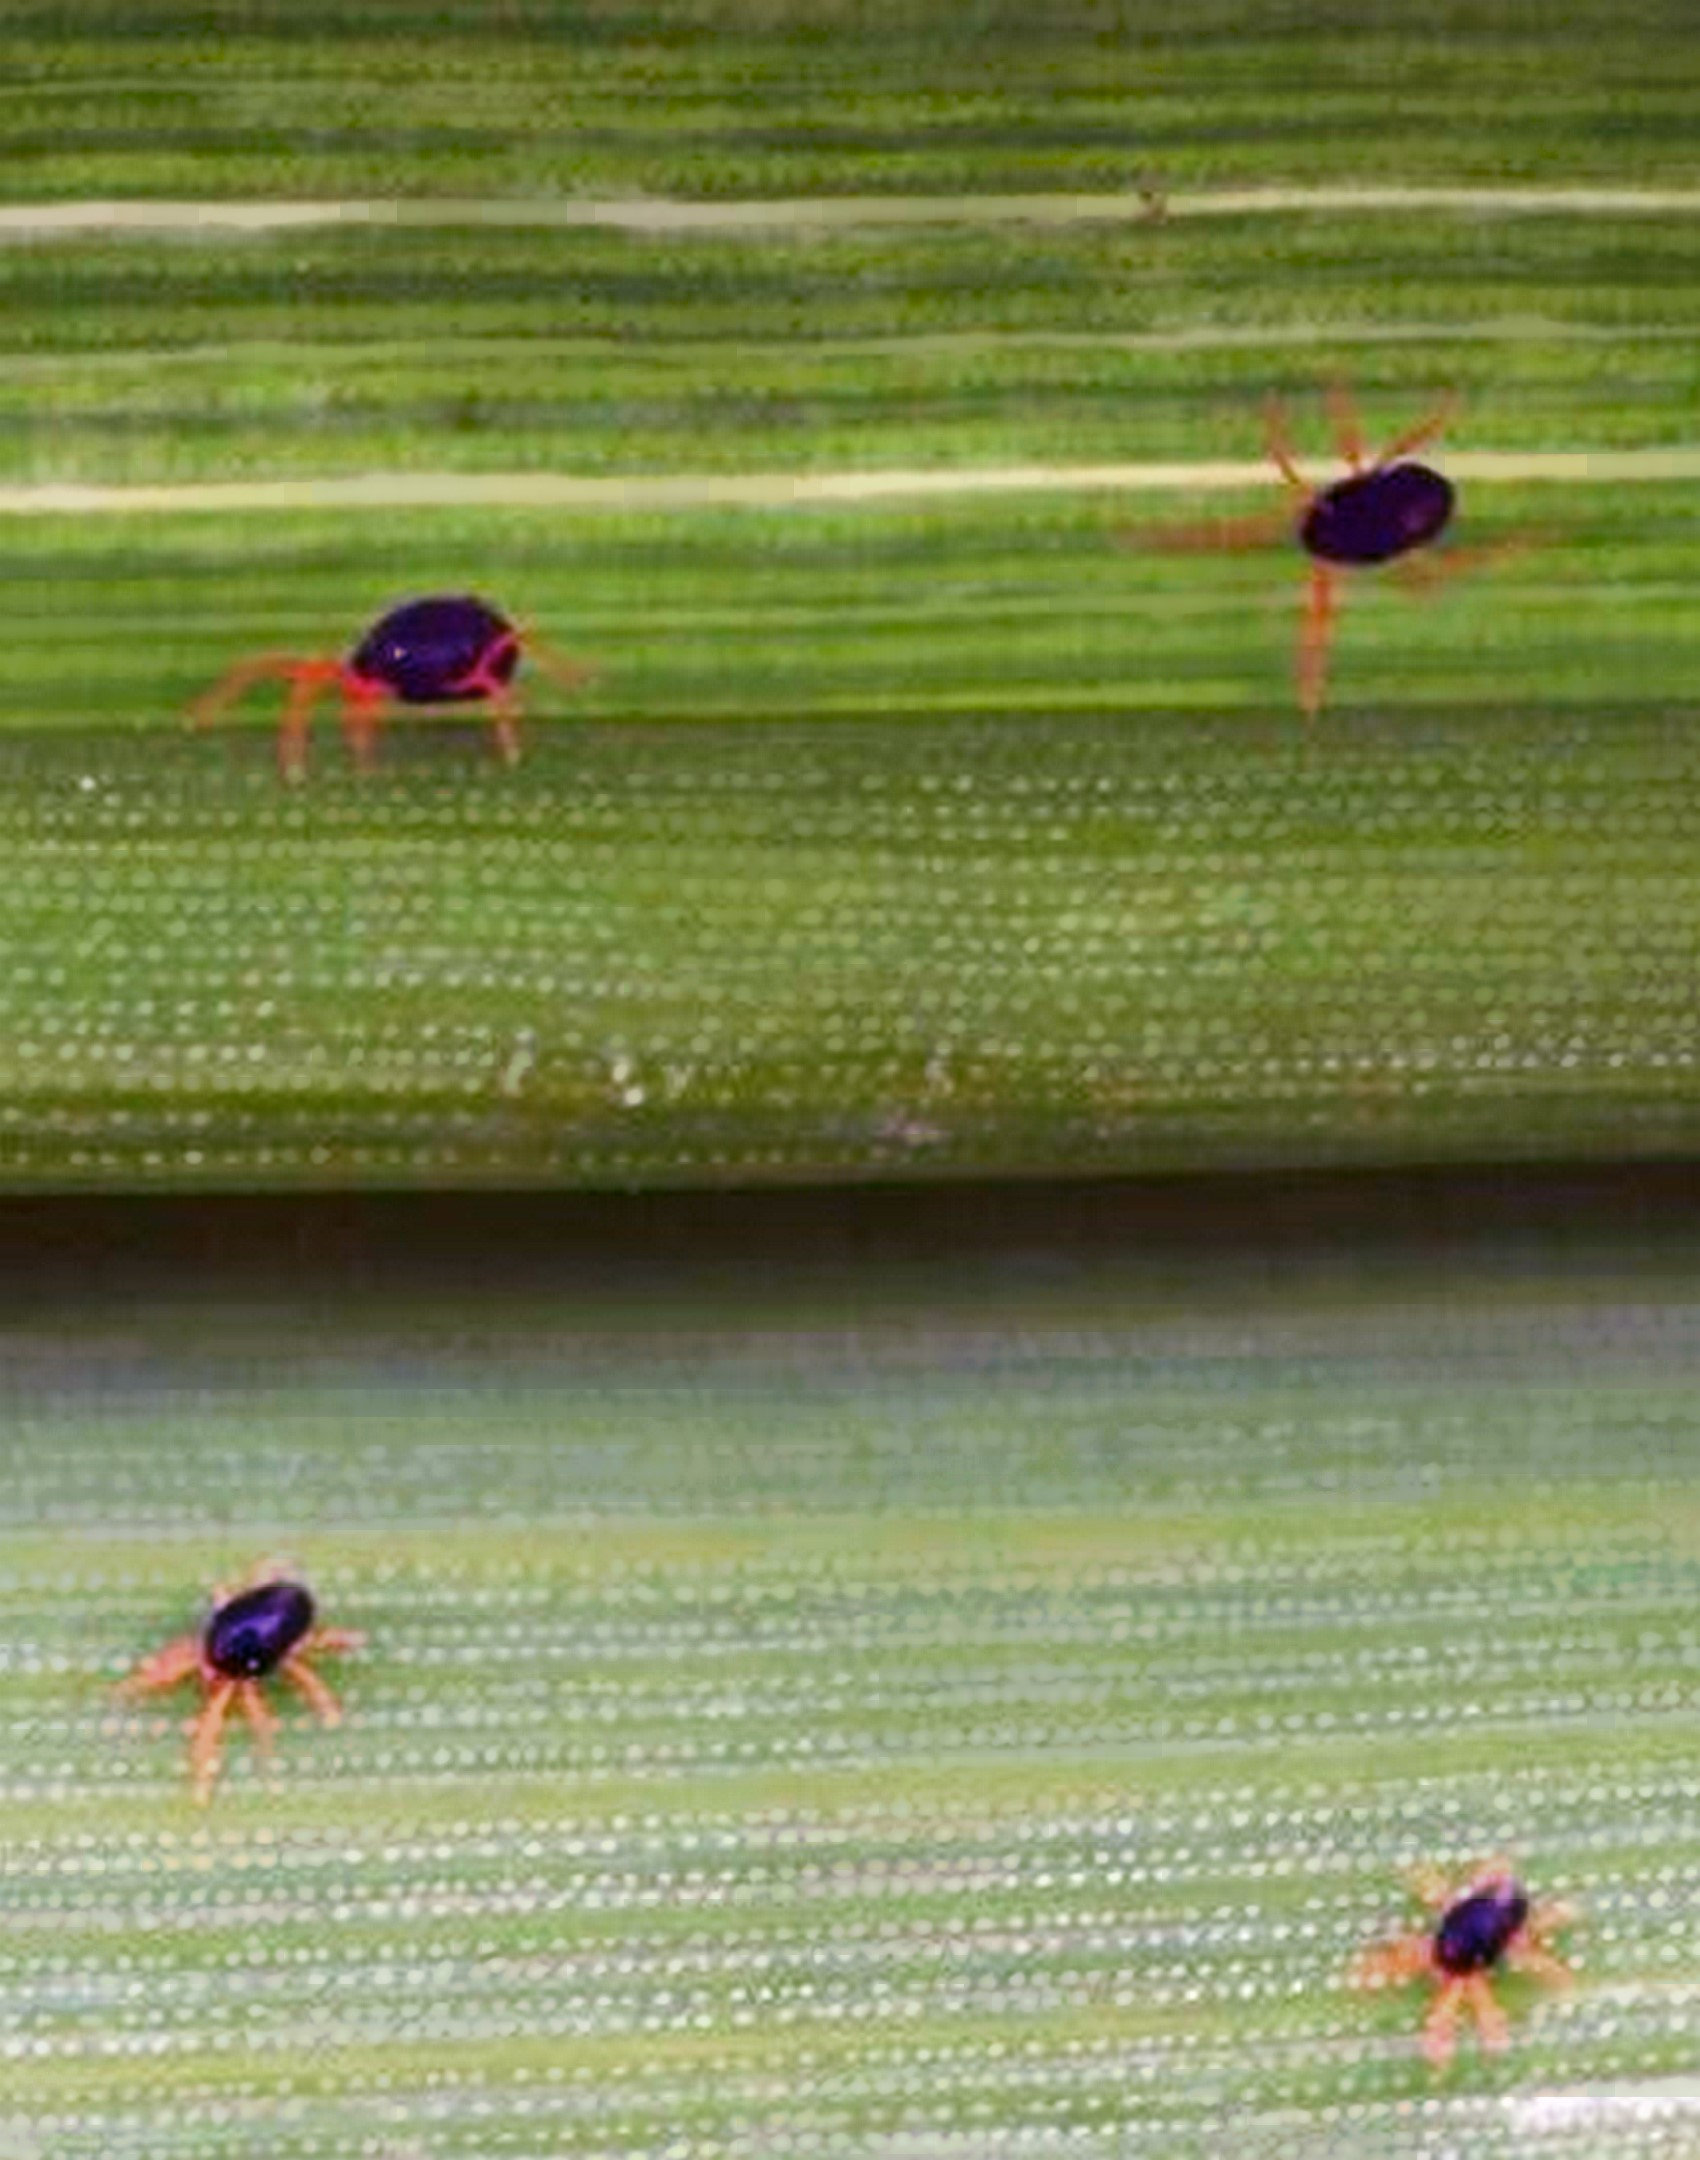Wheat Red Spider: (1060, 342, 1584, 752), (81, 1529, 401, 1815)
